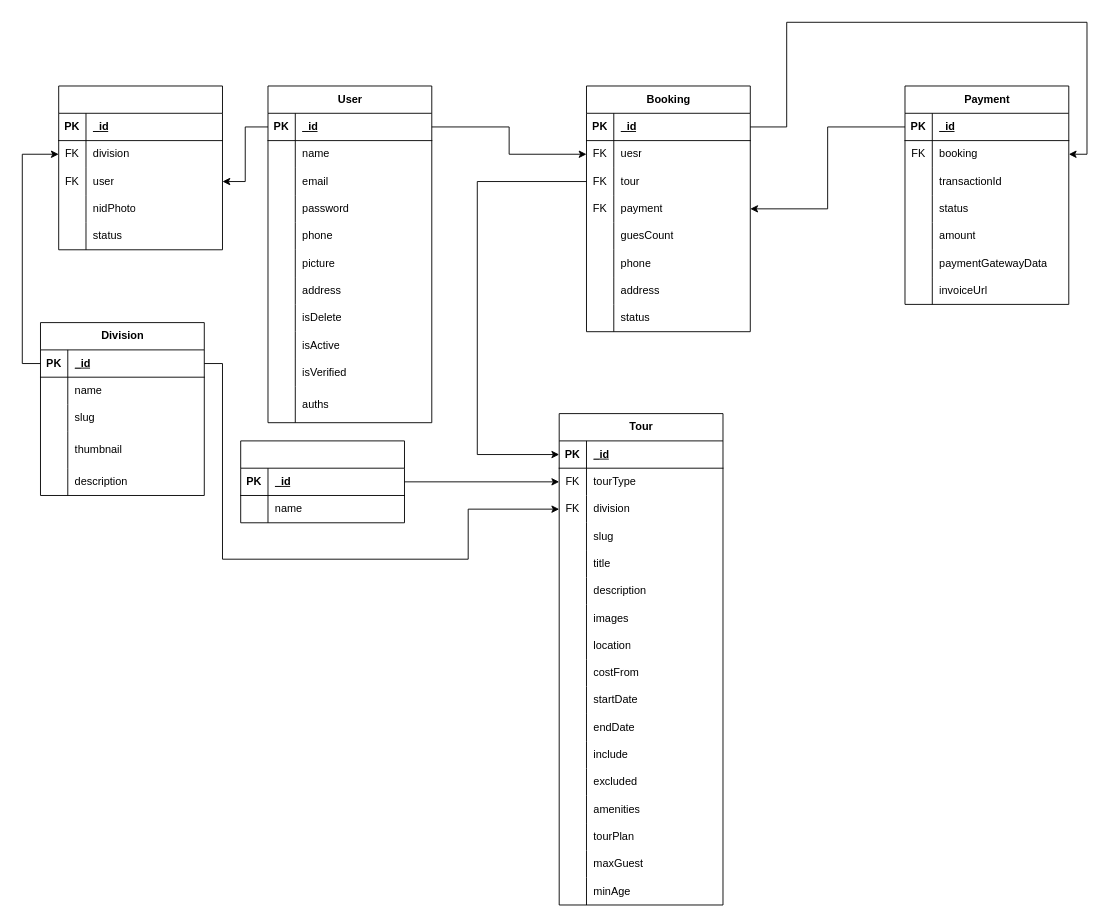
This 1110x921 diagram has some shape labels left out. The shapes that lost their labels are listed below. From the top down, each one's box as (x1, y1, x2, y2) in pixels, then its label:
(58, 85, 222, 250): Guid
(240, 440, 404, 523): Tour Type
